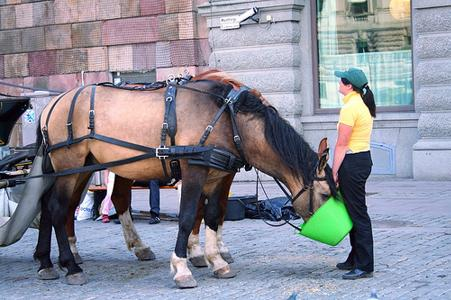person: (333, 68, 377, 280)
